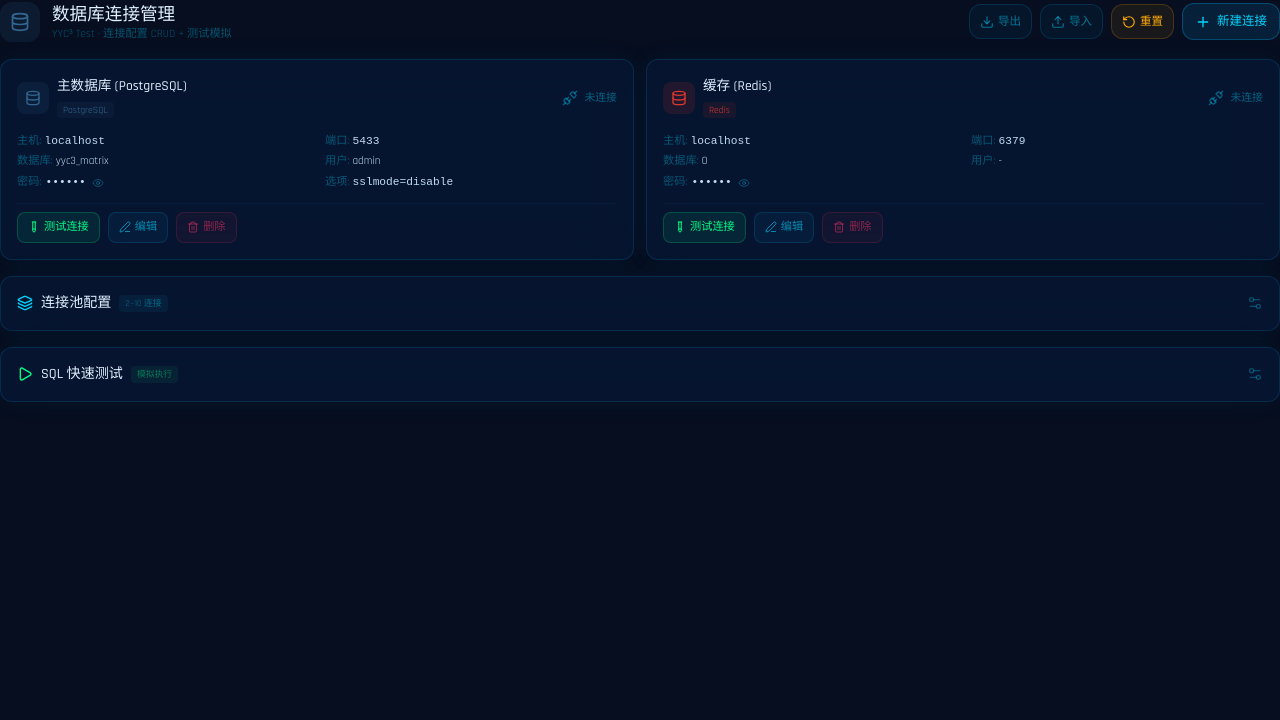
Test: DatabaseConnectionPanel › should expand 连接池配置 when clicked
What coordinates should you click on to do the following:
click the heading "连接池配置"
I would click on:
 (76, 303)
Its box is [41,293,111,314].
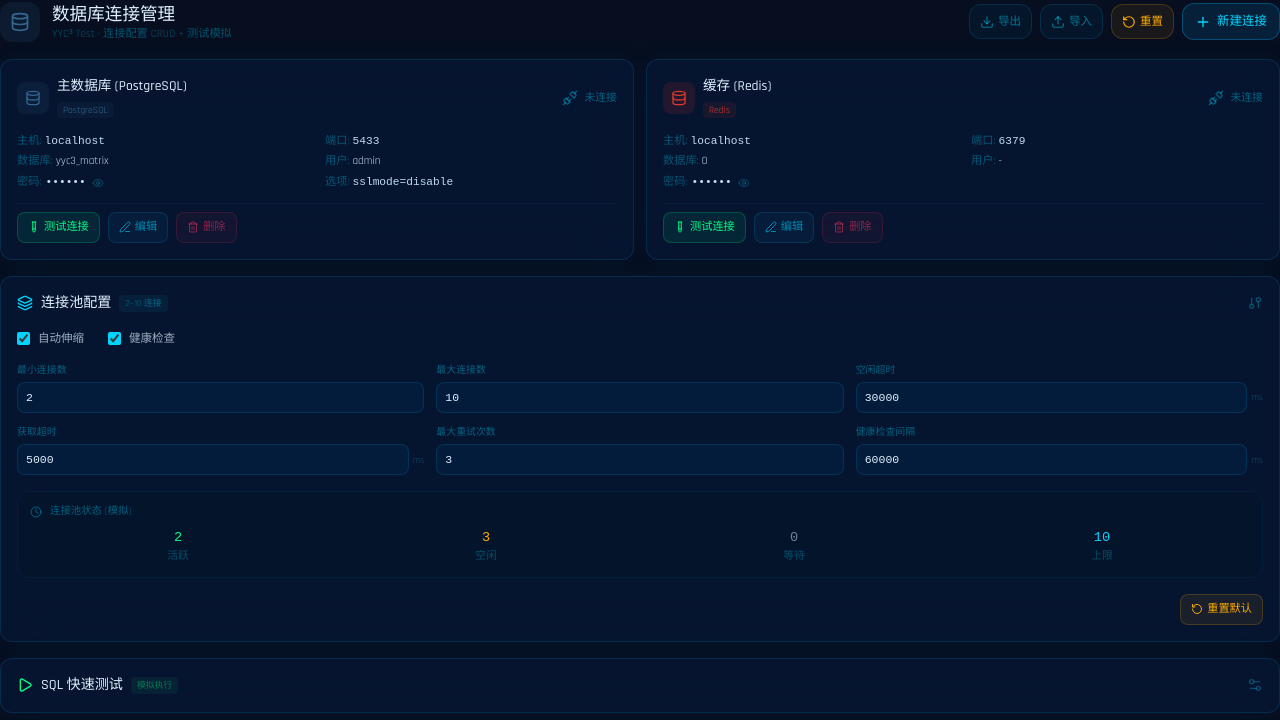
Now the text "自动伸缩" is shown, box [38,330,84,347]
Now the text "健康检查" is shown, box [129,330,175,347]
Now the text "最小连接数" is shown, box [17,364,66,376]
